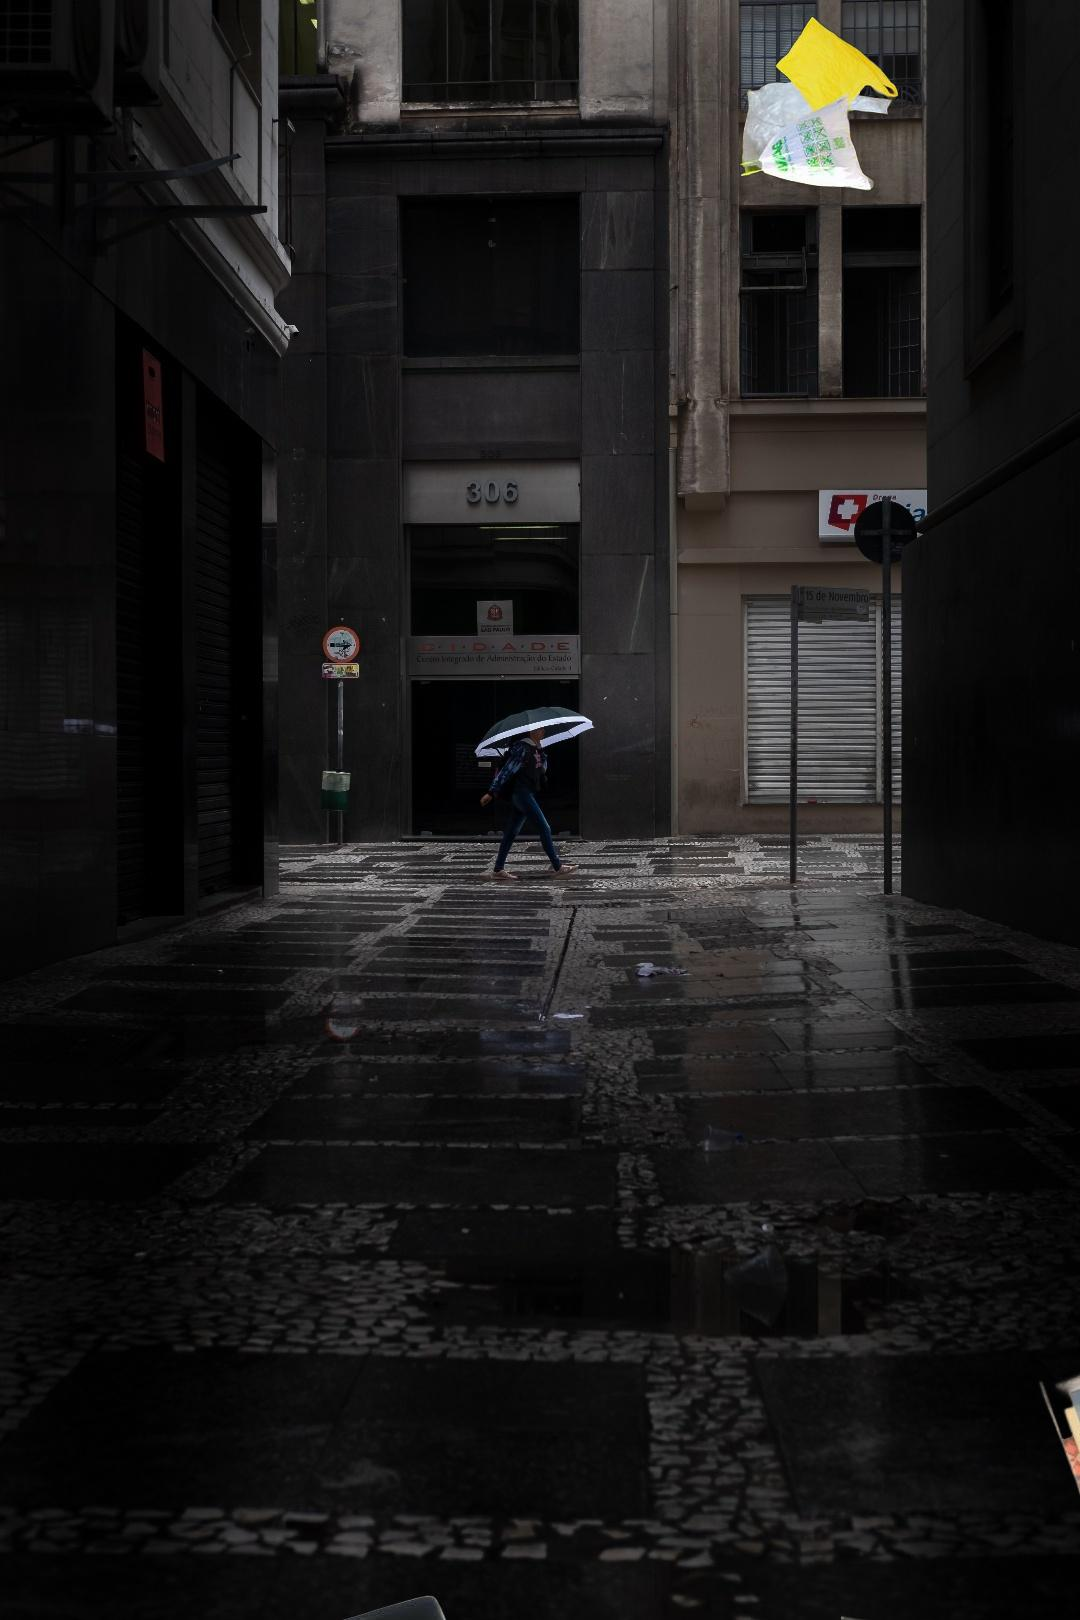paper: (1034, 1254, 1080, 1620), (841, 1612, 1080, 1620)
plastic-bag: (736, 14, 902, 194)
shoes: (200, 1592, 456, 1620)
trashbox-cardboard: (796, 20, 1080, 348)
